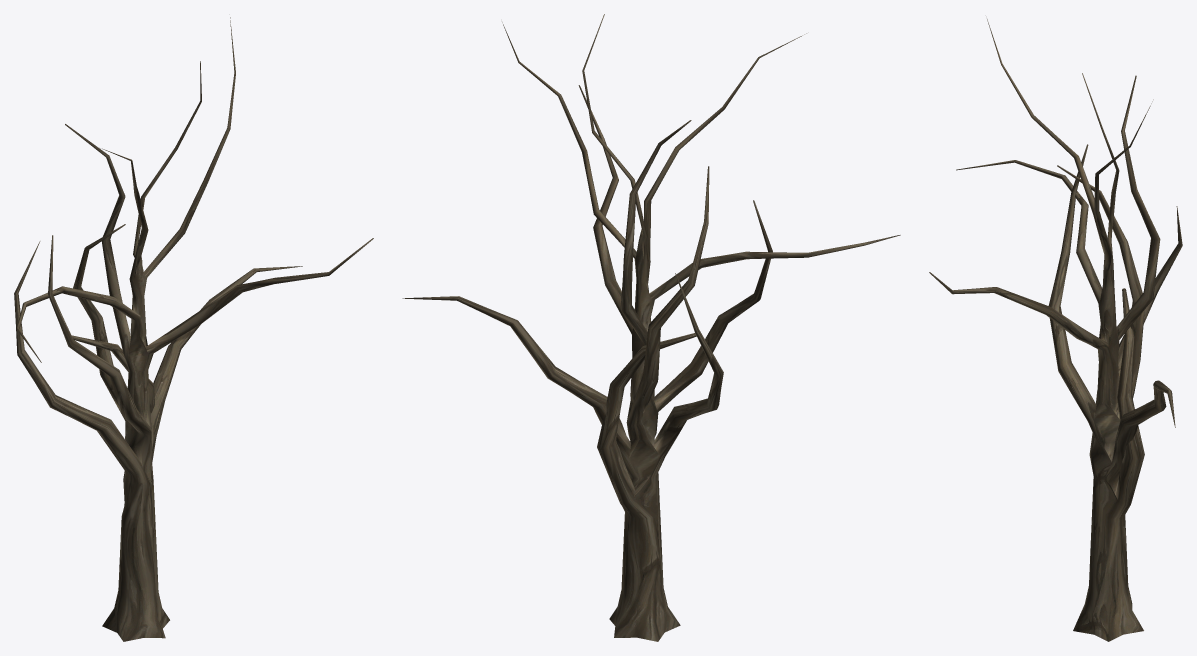
The model's file is tree-02.fbx.
3 views of the same model, side by side, from view 1: azimuth 30°, elevation 25°; view 2: azimuth 150°, elevation 25°; view 3: azimuth 270°, elevation 25° (orthographic). The views are drawn at different scales.
Visible parts, largest first — view 1: tree_tree.122; view 2: tree_tree.122; view 3: tree_tree.122.
Part boxes in pixels (box(x1,y1,x2,y2)): tree_tree.122: box(14, 17, 373, 641); tree_tree.122: box(402, 14, 900, 641); tree_tree.122: box(929, 19, 1182, 641).
Size of the model in its own units: 3.76 by 5.56 by 2.19.
